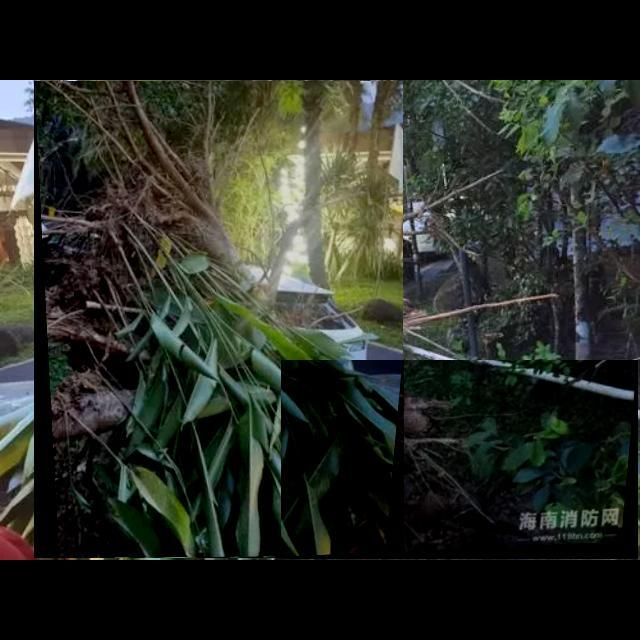fallen_tree: (34, 81, 404, 559), (281, 360, 639, 560)
